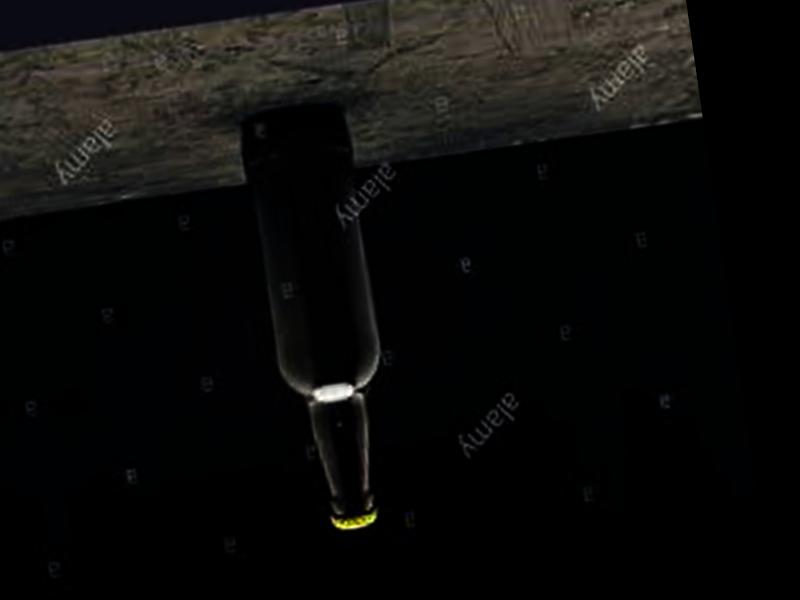Beer: (239, 104, 396, 536)
